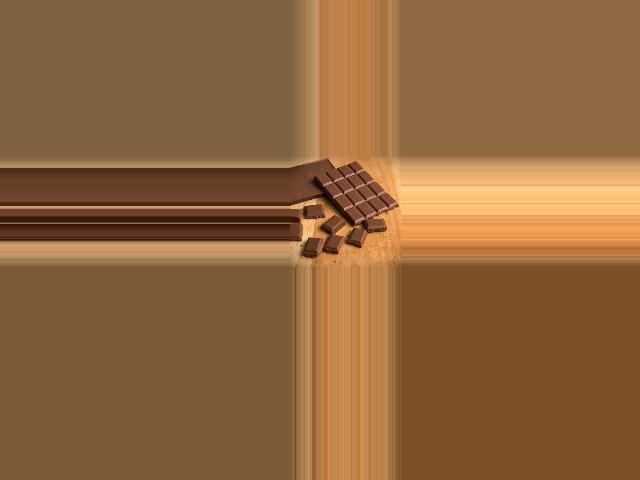chocolate: (314, 161, 395, 229)
